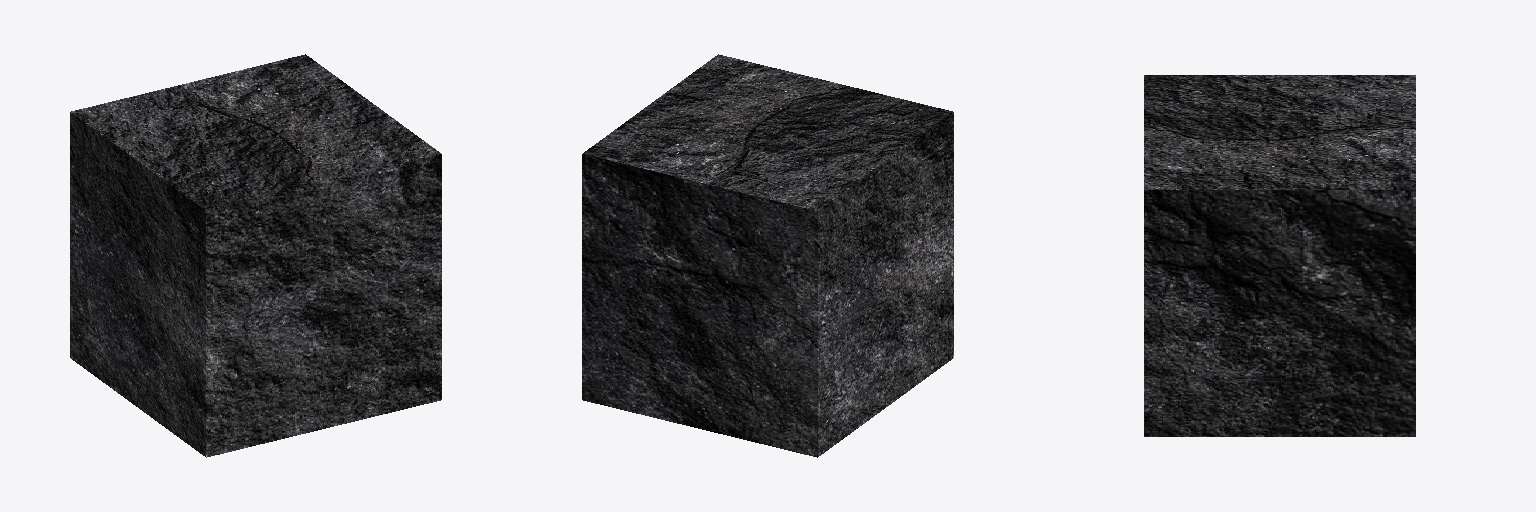
The picture shows the model from 3 angles: view 1: azimuth 30°, elevation 25°; view 2: azimuth 150°, elevation 25°; view 3: azimuth 270°, elevation 25°; orthographic projection.
Parts seen in each view (by area): view 1: Cube; view 2: Cube; view 3: Cube.
Part boxes in pixels (bbox=[...]): Cube: bbox=[70, 54, 441, 457]; Cube: bbox=[582, 54, 953, 457]; Cube: bbox=[1144, 75, 1415, 436].
Bounding box in the file's own units: 2 × 2 × 2.
1 materials, 1 textured.